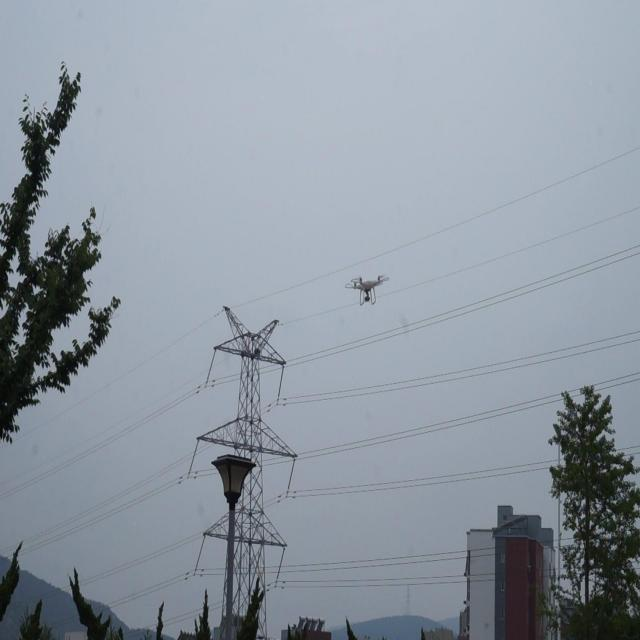UAV: (345, 275, 389, 306)
